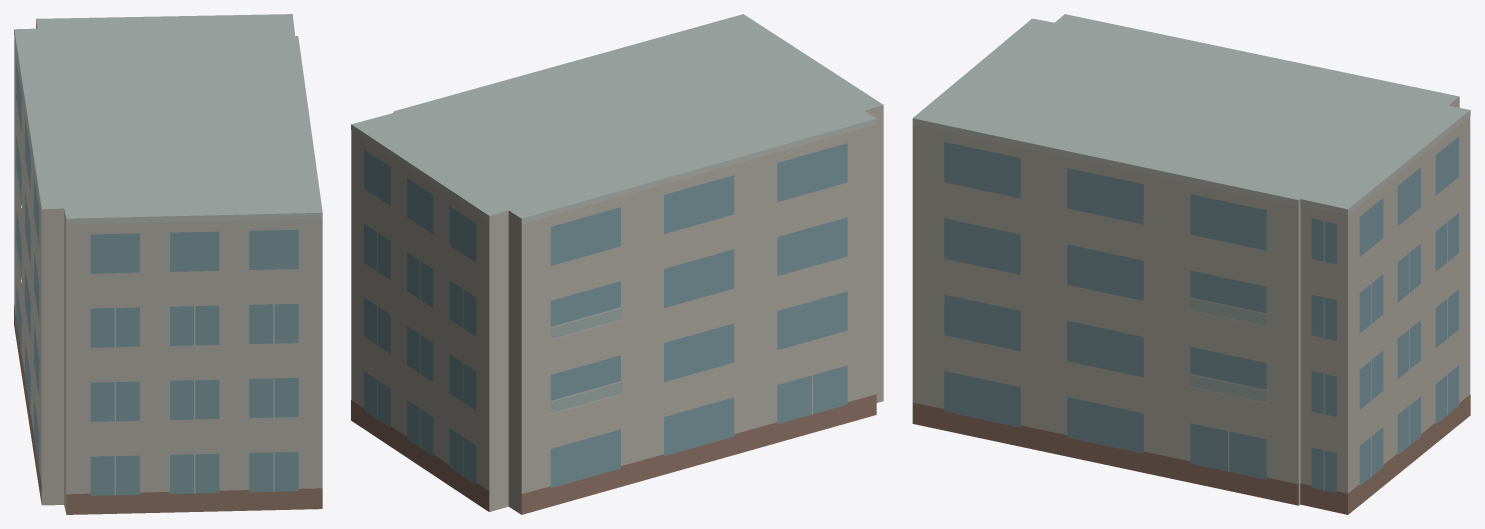
File: survey-upis-32929469.glb
3 renders of one model, left to right at view 1: azimuth 30°, elevation 25°; view 2: azimuth 150°, elevation 25°; view 3: azimuth 270°, elevation 25°, orthographic. The views are drawn at different scales.
Visible parts, largest first — view 1: survey-upis-32929469.tmp; view 2: survey-upis-32929469.tmp; view 3: survey-upis-32929469.tmp.
Part boxes in pixels (bbox=[...]): survey-upis-32929469.tmp: bbox=[14, 14, 322, 514]; survey-upis-32929469.tmp: bbox=[351, 14, 883, 514]; survey-upis-32929469.tmp: bbox=[912, 14, 1470, 514].
Bounding box in the file's own units: 17.15 × 12.5 × 20.7.
